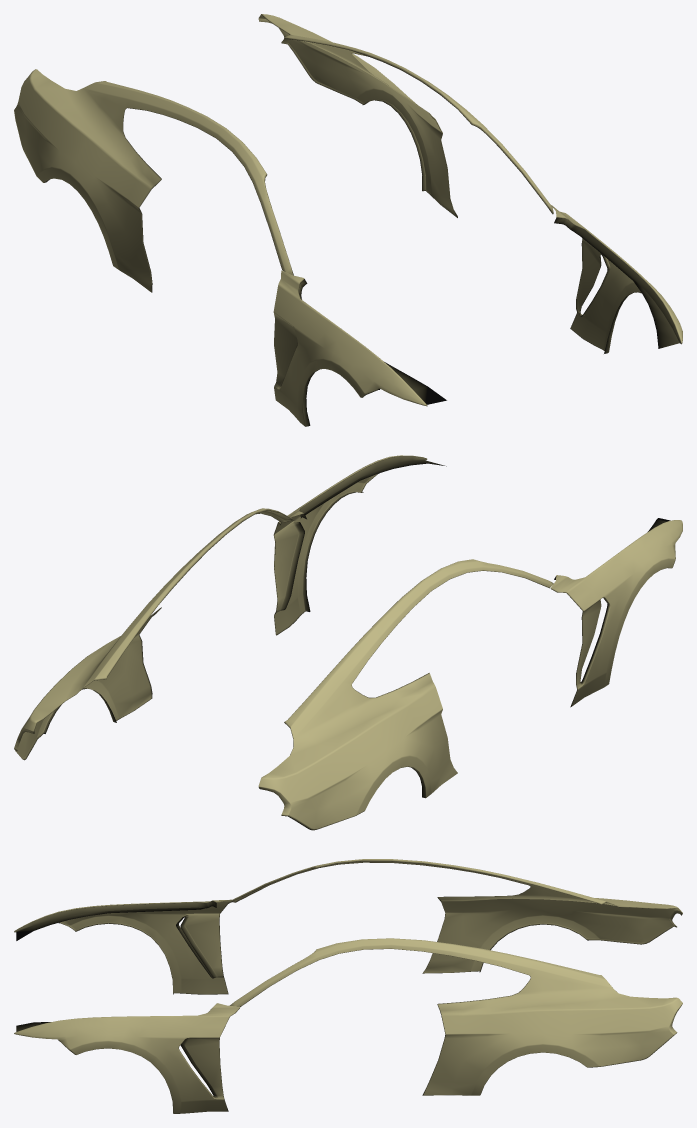
File: Mustang16_Fender_03_Duco.fbx
3 views of the same model, one above another, from view 1: azimuth 30°, elevation 25°; view 2: azimuth 150°, elevation 25°; view 3: azimuth 270°, elevation 25° (orthographic). The views are drawn at different scales.
Parts seen in each view (by area): view 1: Mustang16_Fender_03_Duco; view 2: Mustang16_Fender_03_Duco; view 3: Mustang16_Fender_03_Duco.
Boxes of the visible parts, <box> form: Mustang16_Fender_03_Duco: <box>14,14,682,426</box>; Mustang16_Fender_03_Duco: <box>14,455,682,830</box>; Mustang16_Fender_03_Duco: <box>14,859,682,1113</box>.
Size of the model in its own units: 191 by 107 by 418.
